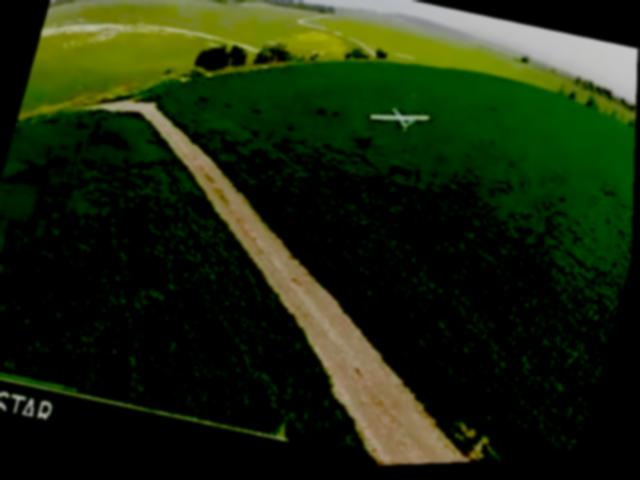uav: (364, 98, 433, 146)
